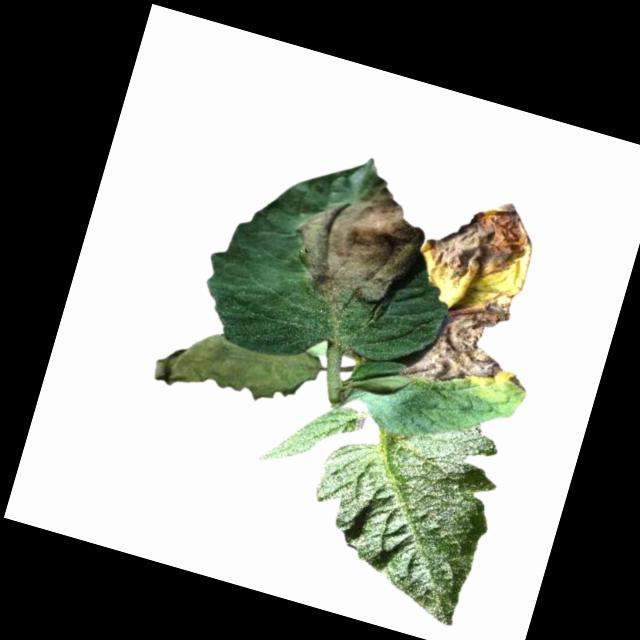Late_blight: (276, 159, 440, 331), (150, 310, 324, 426), (399, 269, 521, 402), (418, 180, 546, 295), (505, 371, 531, 393)
healthy: (290, 385, 517, 629), (257, 385, 367, 488)
